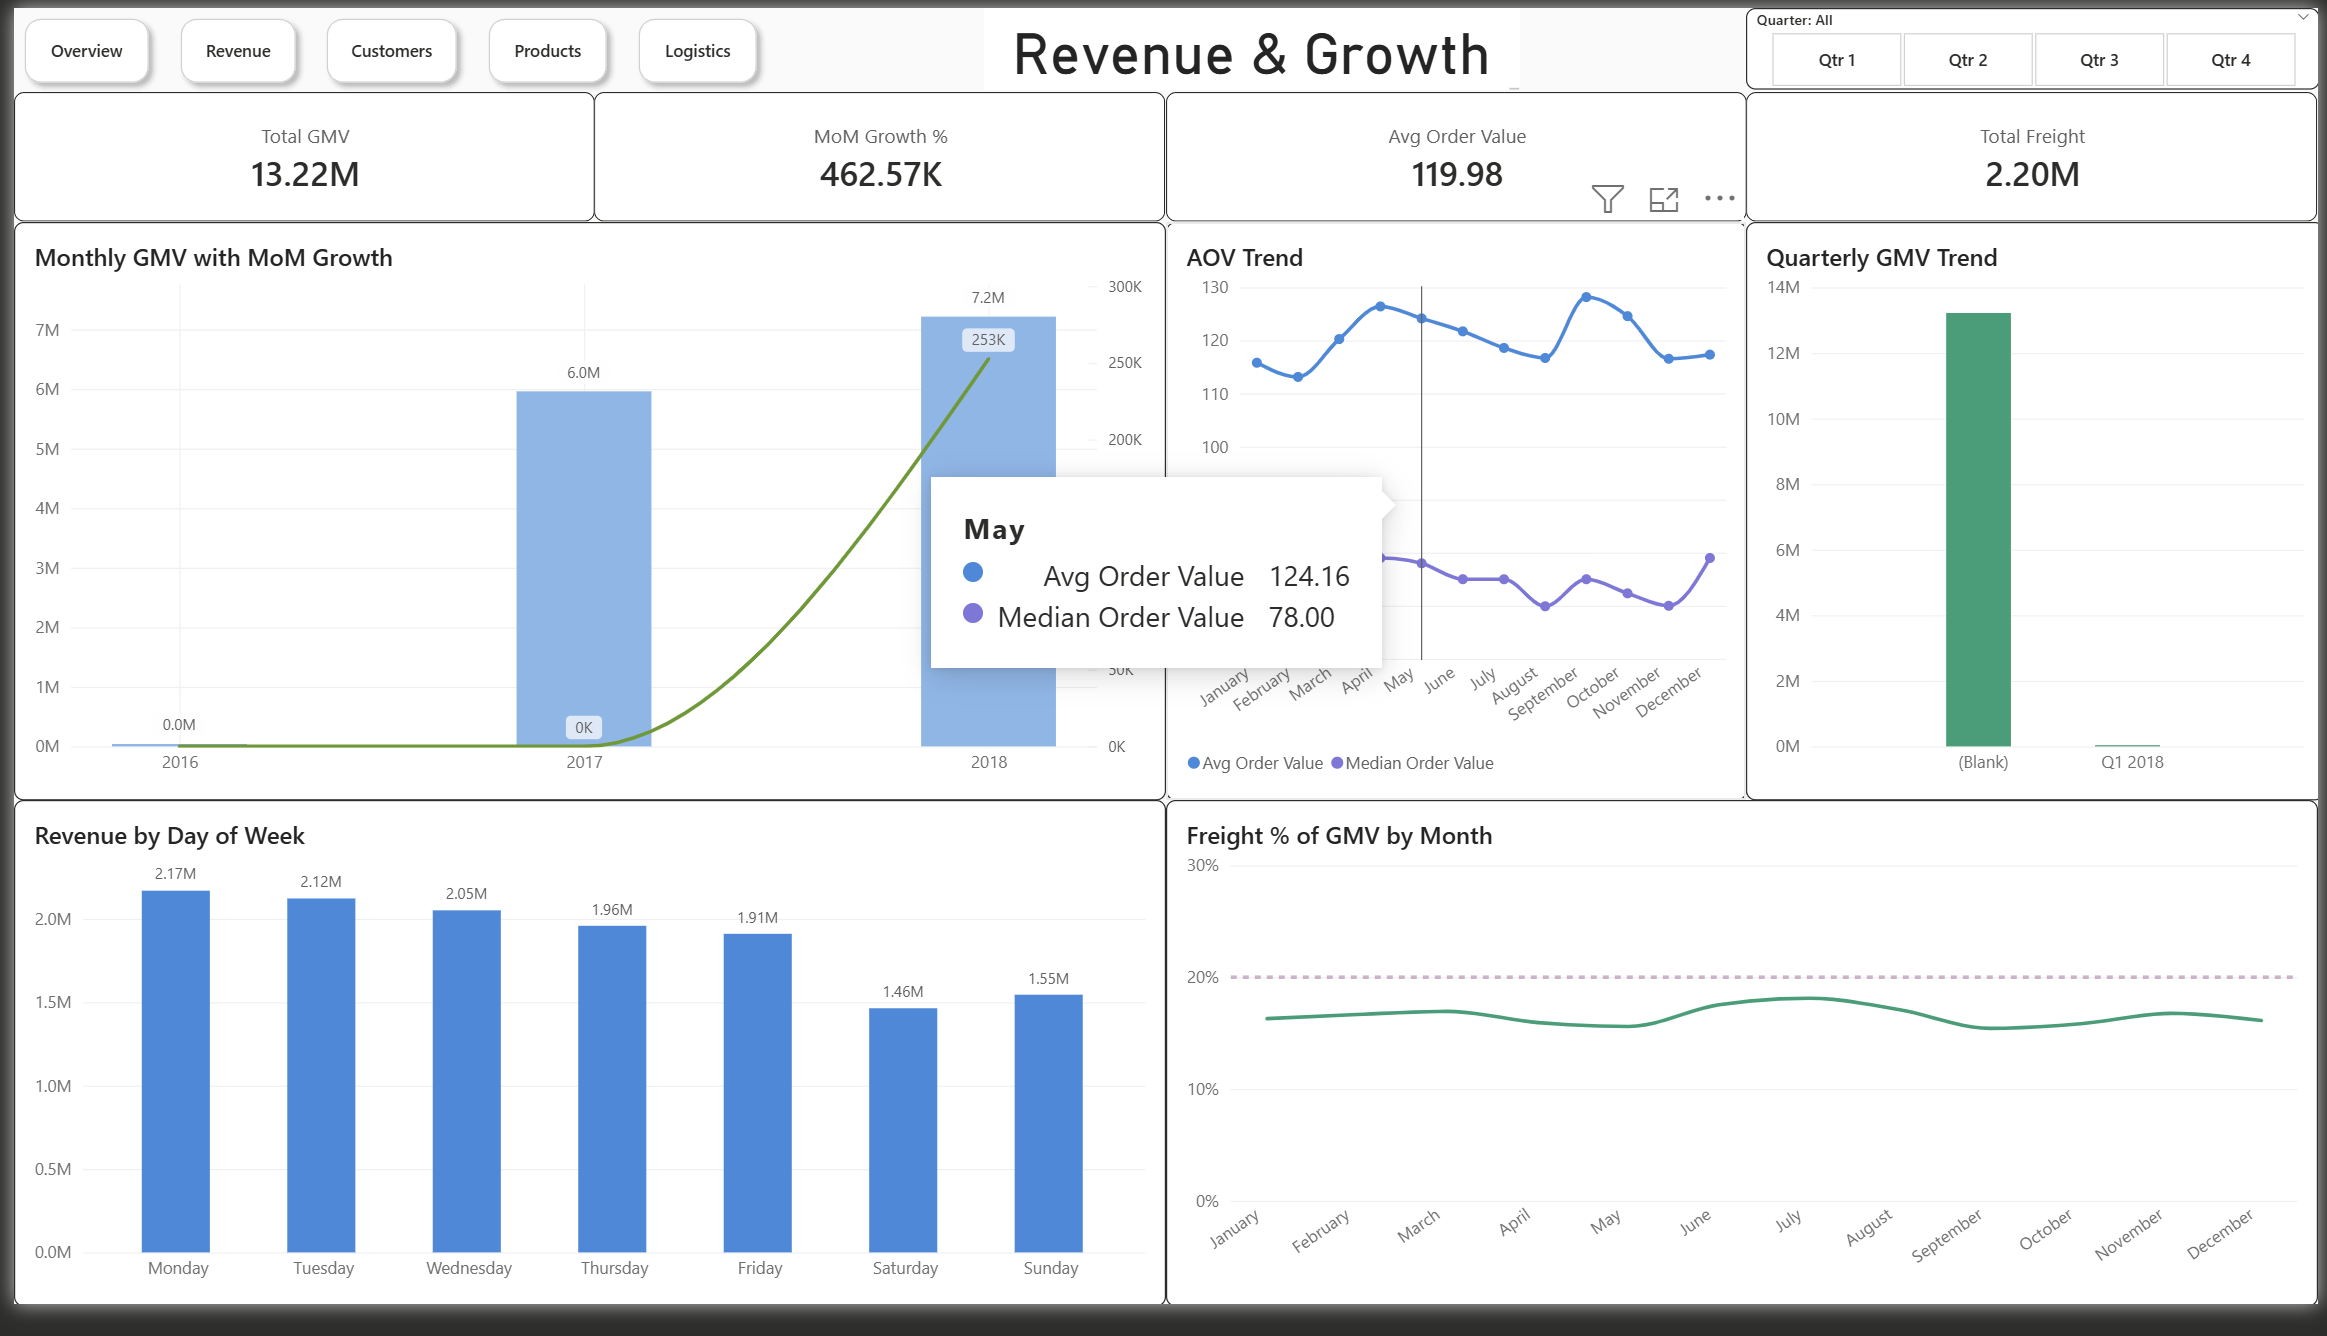

What the dashboard file says about the page in this screenshot:
{"tool":"powerbi","page":{"name":"Revenue & Growth","canvas":[1920,1080],"ordinal":1},"visuals":[{"type":"textbox","title":"Revenue & Growth","box":[808.2,0,446,68],"z":0},{"type":"actionButton","title":"Overview","box":[0,0.5,121.2,71.2],"z":1000,"group":"g1"},{"type":"cardVisual","fields":{"Data":["delivered_orders.MoM Growth %"]},"box":[484,70,476,108],"z":1000},{"type":"cardVisual","fields":{"Data":["delivered_orders.Total GMV"]},"box":[0,70,484,108],"z":2000},{"type":"actionButton","title":"Overview","box":[129.7,0.5,113.8,71.2],"z":3000,"group":"g1"},{"type":"cardVisual","fields":{"Data":["delivered_orders.Total Freight"]},"box":[1444,70,476,108],"z":3000},{"type":"cardVisual","fields":{"Data":["delivered_orders.Avg Order Value"]},"box":[960,70,484,108],"z":4000},{"type":"actionButton","title":"Overview","box":[251.9,0.5,126.2,71.2],"z":5000,"group":"g1"},{"type":"lineStackedColumnComboChart","title":"Monthly GMV with MoM Growth","fields":{"Category":["delivered_orders.order_month_name.Variation.Date Hierarchy.Year","delivered_orders.order_month_name.Variation.Date Hierarchy.Quarter","delivered_orders.order_month_name.Variation.Date Hierarchy.Month","delivered_orders.order_month_name.Variation.Date Hierarchy.Day"],"Y":["delivered_orders.Total GMV"],"Y2":["delivered_orders.MoM Growth %"]},"box":[0,178,960,482],"z":5000},{"type":"clusteredColumnChart","title":"Quarterly GMV Trend","fields":{"Y":["delivered_orders.Total GMV"],"Category":["DateTable.Quarter Year"]},"box":[1444,178,482,482],"z":6000},{"type":"actionButton","title":"Overview","box":[386.6,0.5,116.2,71.2],"z":7000,"group":"g1"},{"type":"clusteredColumnChart","title":"Revenue by Day of Week","fields":{"Category":["delivered_orders.order_day_of_week"],"Y":["delivered_orders.Total GMV"]},"box":[0,660,960,422],"z":7000},{"type":"lineChart","title":" AOV Trend","fields":{"Y":["delivered_orders.Avg Order Value","delivered_orders.Median Order Value"],"Category":["delivered_orders.order_month_name.Variation.Date Hierarchy.Month"]},"box":[960,178,484,482],"z":8000},{"type":"actionButton","title":"Overview","box":[511.2,0.5,116.2,71.2],"z":9000,"group":"g1"},{"type":"lineChart","fields":{"Category":["delivered_orders.order_month.Variation.Date Hierarchy.Month"],"Y":["delivered_orders.Freight % of GMV"]},"box":[960,660,960,422],"z":9000},{"type":"slicer","fields":{"Values":["delivered_orders.order_approved_at.Variation.Date Hierarchy.Quarter"]},"box":[1444,0,478,68],"z":10000},{"type":"group","id":"g1","title":"Group 1","box":[0,0.5,627.5,71.2],"z":11000}]}

Visuals, with their boxes in screenshot pixels (x1, y1, x2, y2), scaled from the page's 1920x1080 canvas onto the 2327x1336 screenshot:
"Revenue & Growth" textbox: (left=980, top=0, right=1520, bottom=84)
"Overview" actionButton: (left=0, top=1, right=147, bottom=89)
cardVisual - delivered_orders.MoM Growth %: (left=587, top=87, right=1164, bottom=220)
cardVisual - delivered_orders.Total GMV: (left=0, top=87, right=587, bottom=220)
"Overview" actionButton: (left=157, top=1, right=295, bottom=89)
cardVisual - delivered_orders.Total Freight: (left=1750, top=87, right=2326, bottom=220)
cardVisual - delivered_orders.Avg Order Value: (left=1164, top=87, right=1750, bottom=220)
"Overview" actionButton: (left=305, top=1, right=458, bottom=89)
"Monthly GMV with MoM Growth" lineStackedColumnComboChart: (left=0, top=220, right=1164, bottom=816)
"Quarterly GMV Trend" clusteredColumnChart: (left=1750, top=220, right=2326, bottom=816)
"Overview" actionButton: (left=469, top=1, right=609, bottom=89)
"Revenue by Day of Week" clusteredColumnChart: (left=0, top=816, right=1164, bottom=1335)
" AOV Trend" lineChart: (left=1164, top=220, right=1750, bottom=816)
"Overview" actionButton: (left=620, top=1, right=760, bottom=89)
lineChart - delivered_orders.order_month.Variation.Date Hierarchy.Month x delivered_orders.Freight % of GMV: (left=1164, top=816, right=2326, bottom=1335)
slicer - delivered_orders.order_approved_at.Variation.Date Hierarchy.Quarter: (left=1750, top=0, right=2326, bottom=84)
"Group 1" group: (left=0, top=1, right=761, bottom=89)
